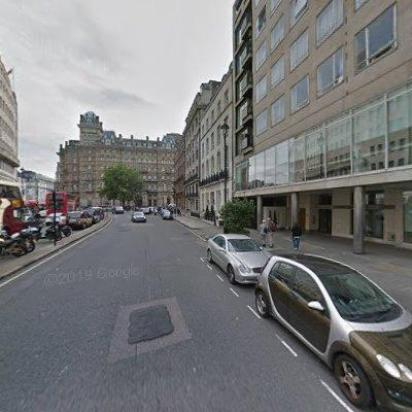moving-bus: (0, 178, 28, 242), (44, 190, 78, 220)
moving-car: (82, 207, 102, 225), (44, 212, 66, 226), (131, 210, 145, 222), (111, 206, 125, 215), (38, 207, 48, 217), (142, 206, 152, 216)
stationary-car-onstreet: (253, 250, 411, 410), (204, 230, 272, 290), (65, 209, 95, 230), (161, 210, 175, 222)
stationary-motorcycle-onstreet: (2, 226, 38, 252), (0, 227, 28, 257), (30, 221, 63, 244), (57, 220, 73, 240)
